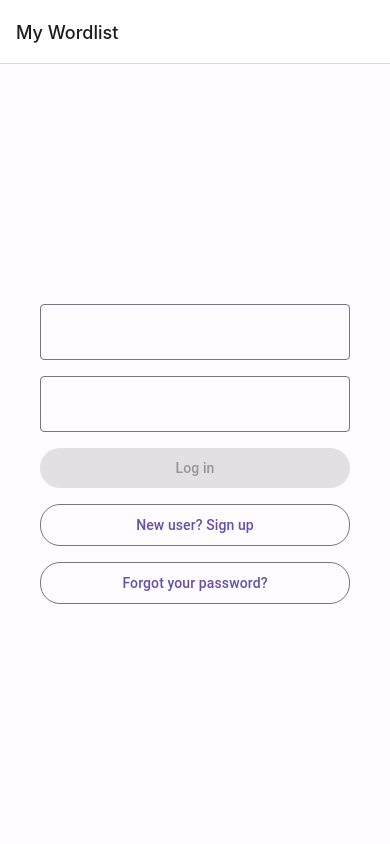
Test: LogInScreen › after entering an invalid email and a password › after tapping submit button › a suitable validation message appears
The image size is (390, 844).
Type "test.com" into the field labelled "email".
click(195, 332); type("test.com")  # box [40,304,350,360]
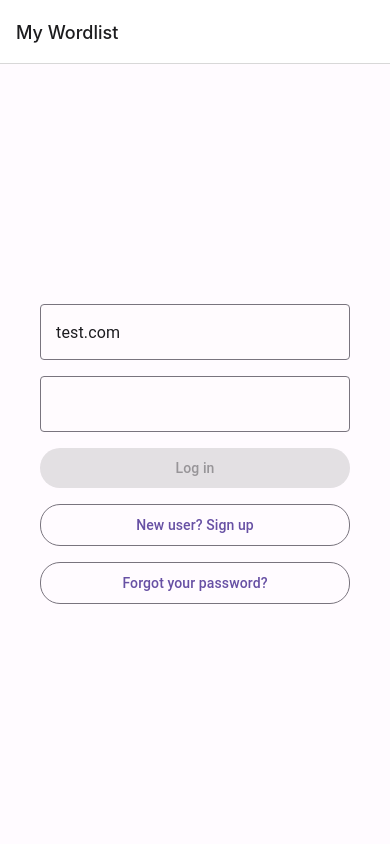
Type "password" into the password field labelled "password".
click(167, 404); type("password")  # box [40,376,294,432]
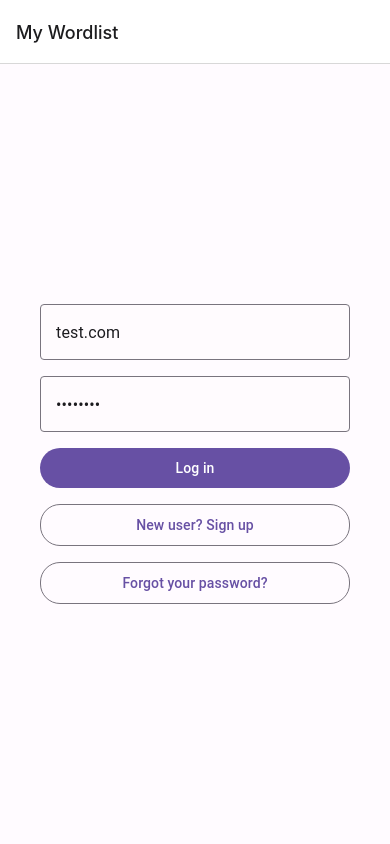
Click the button "Log in".
click(195, 468)  # box [40,448,350,488]
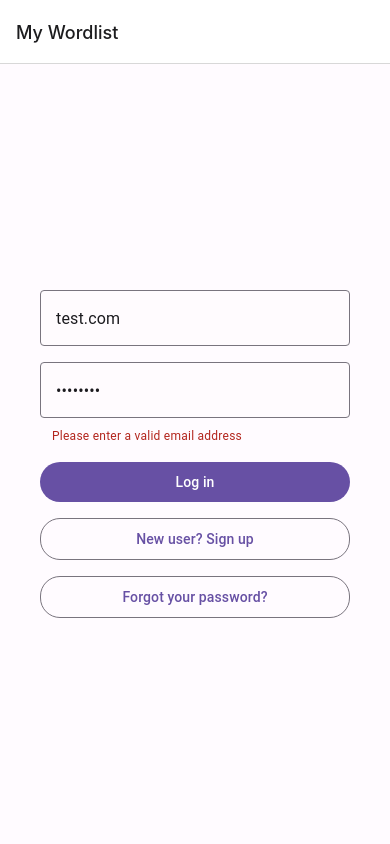
Expected: the text "Please enter a valid email address" is shown, [52,429,242,443]
